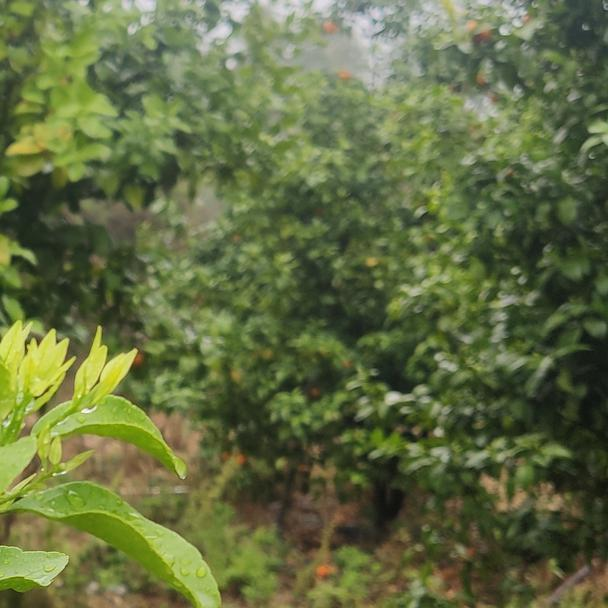shoot: (3, 324, 72, 426), (74, 342, 141, 422), (31, 430, 95, 485)
